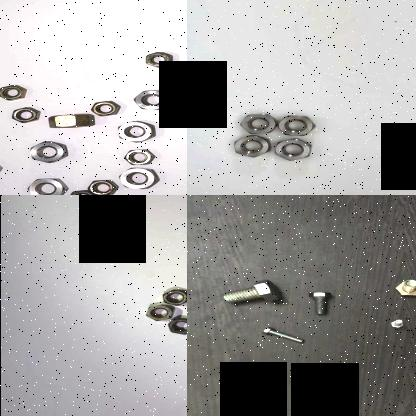Bolts: (218, 278, 284, 309), (259, 322, 305, 346), (303, 290, 334, 320), (386, 277, 416, 298), (311, 362, 341, 382), (385, 317, 408, 330)
NUTS: (113, 116, 160, 144), (270, 136, 314, 164), (268, 113, 316, 138), (27, 140, 73, 164), (117, 166, 161, 191), (234, 112, 276, 138), (132, 88, 174, 112), (44, 113, 96, 132), (232, 134, 270, 158), (138, 50, 178, 70), (24, 176, 66, 195), (86, 100, 122, 120), (121, 149, 159, 167), (142, 302, 172, 323), (0, 82, 27, 104), (8, 106, 40, 124), (159, 287, 187, 307), (87, 179, 119, 195), (165, 316, 187, 336), (66, 188, 100, 195)
